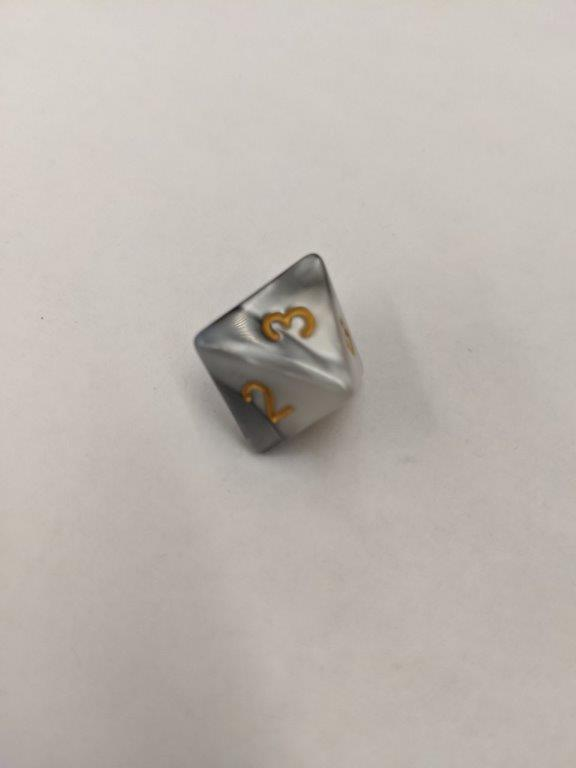d8-3: (194, 252, 364, 459)
